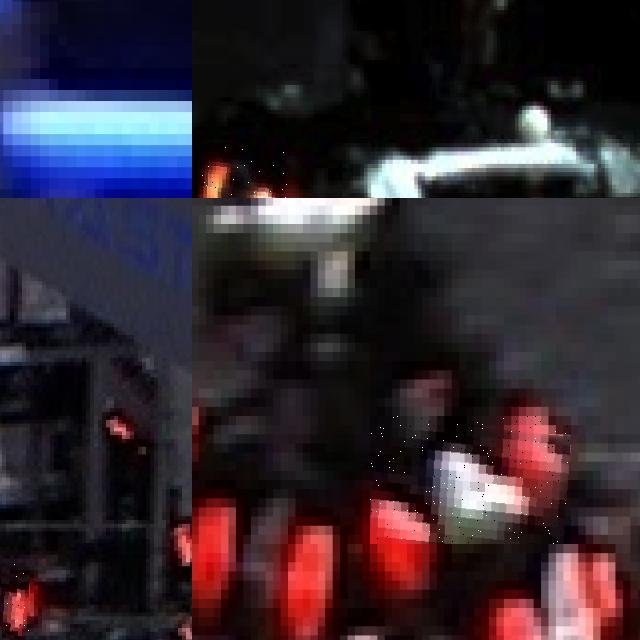R2: (0, 562, 30, 640)
R4: (370, 416, 571, 544), (192, 489, 347, 640), (496, 534, 622, 640)
Rs: (198, 147, 288, 198)
